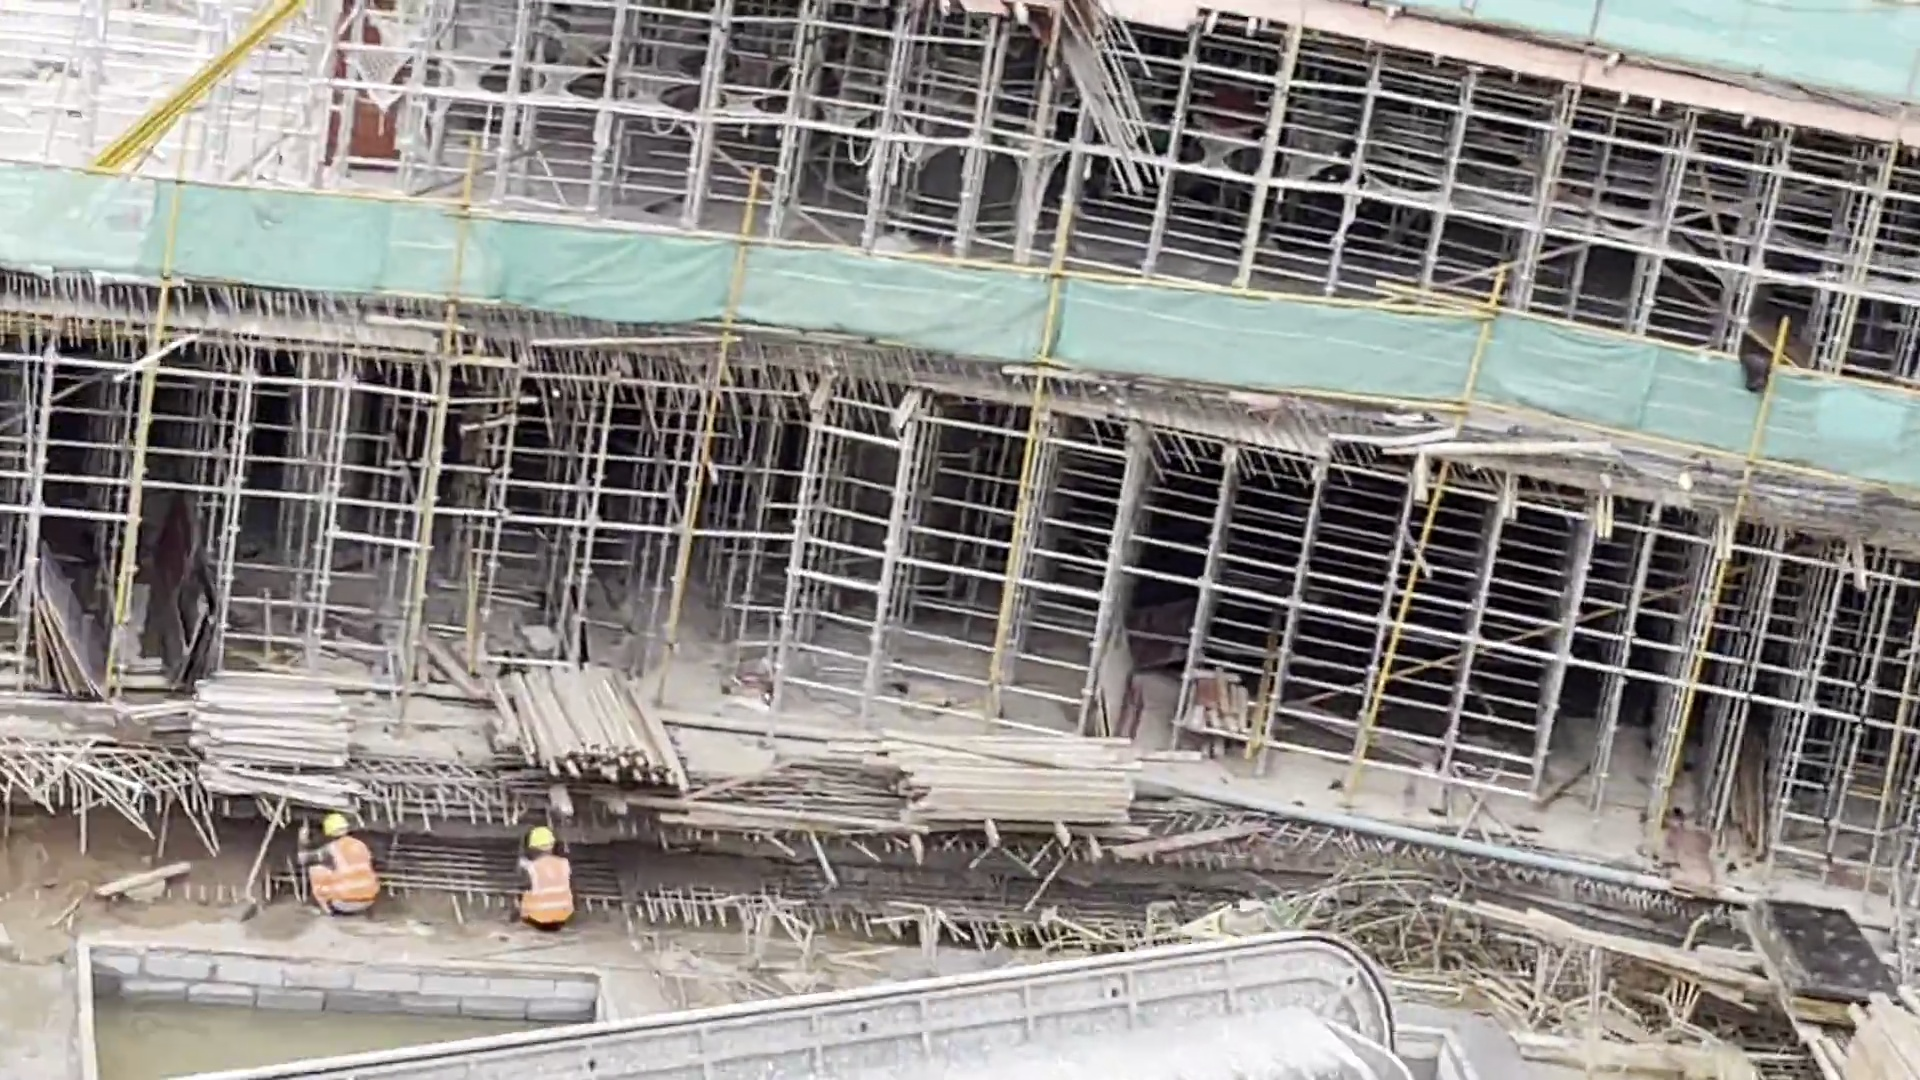helmet: (309, 841, 390, 910), (515, 858, 582, 930), (313, 810, 354, 836), (517, 828, 564, 851)
person: (291, 809, 396, 927), (509, 815, 585, 941)
